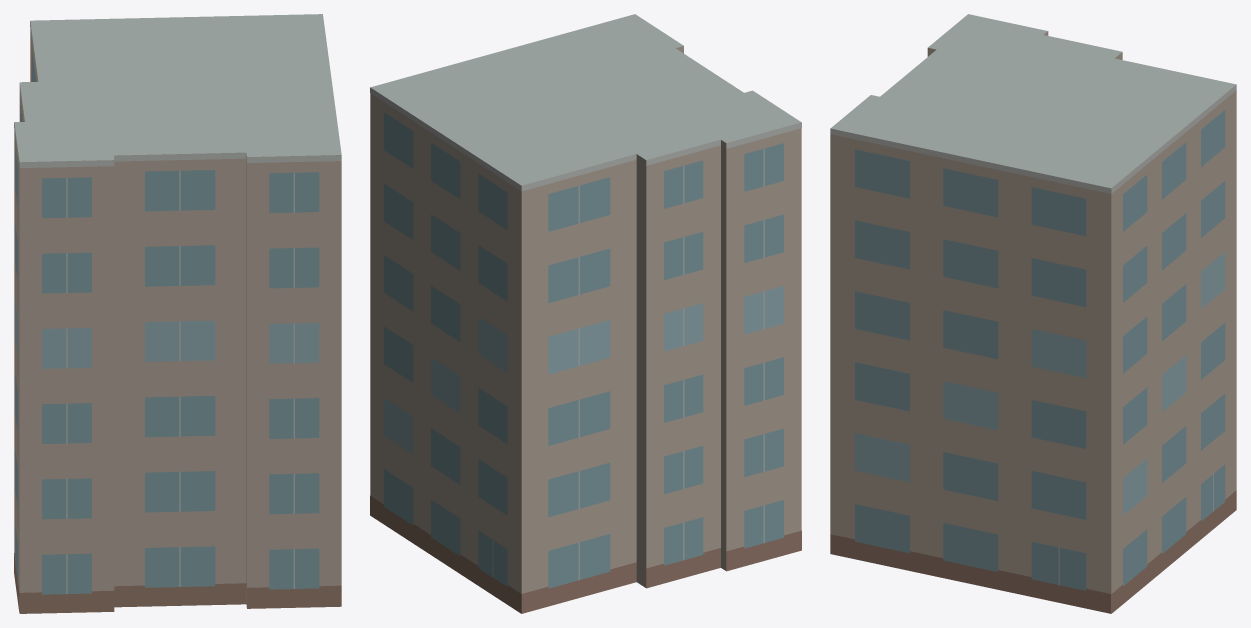
File: survey-upis-32993575.glb
3 renders of one model, left to right at view 1: azimuth 30°, elevation 25°; view 2: azimuth 150°, elevation 25°; view 3: azimuth 270°, elevation 25°, orthographic. The views are drawn at different scales.
Parts seen in each view (by area): view 1: survey-upis-32993575.tmp; view 2: survey-upis-32993575.tmp; view 3: survey-upis-32993575.tmp.
Part boxes in pixels (left/top/right/bottom): survey-upis-32993575.tmp: left=14, top=14, right=341, bottom=613; survey-upis-32993575.tmp: left=370, top=14, right=801, bottom=613; survey-upis-32993575.tmp: left=830, top=14, right=1236, bottom=613.
Bounding box in the file's own units: 16.09 × 18.3 × 15.84.
